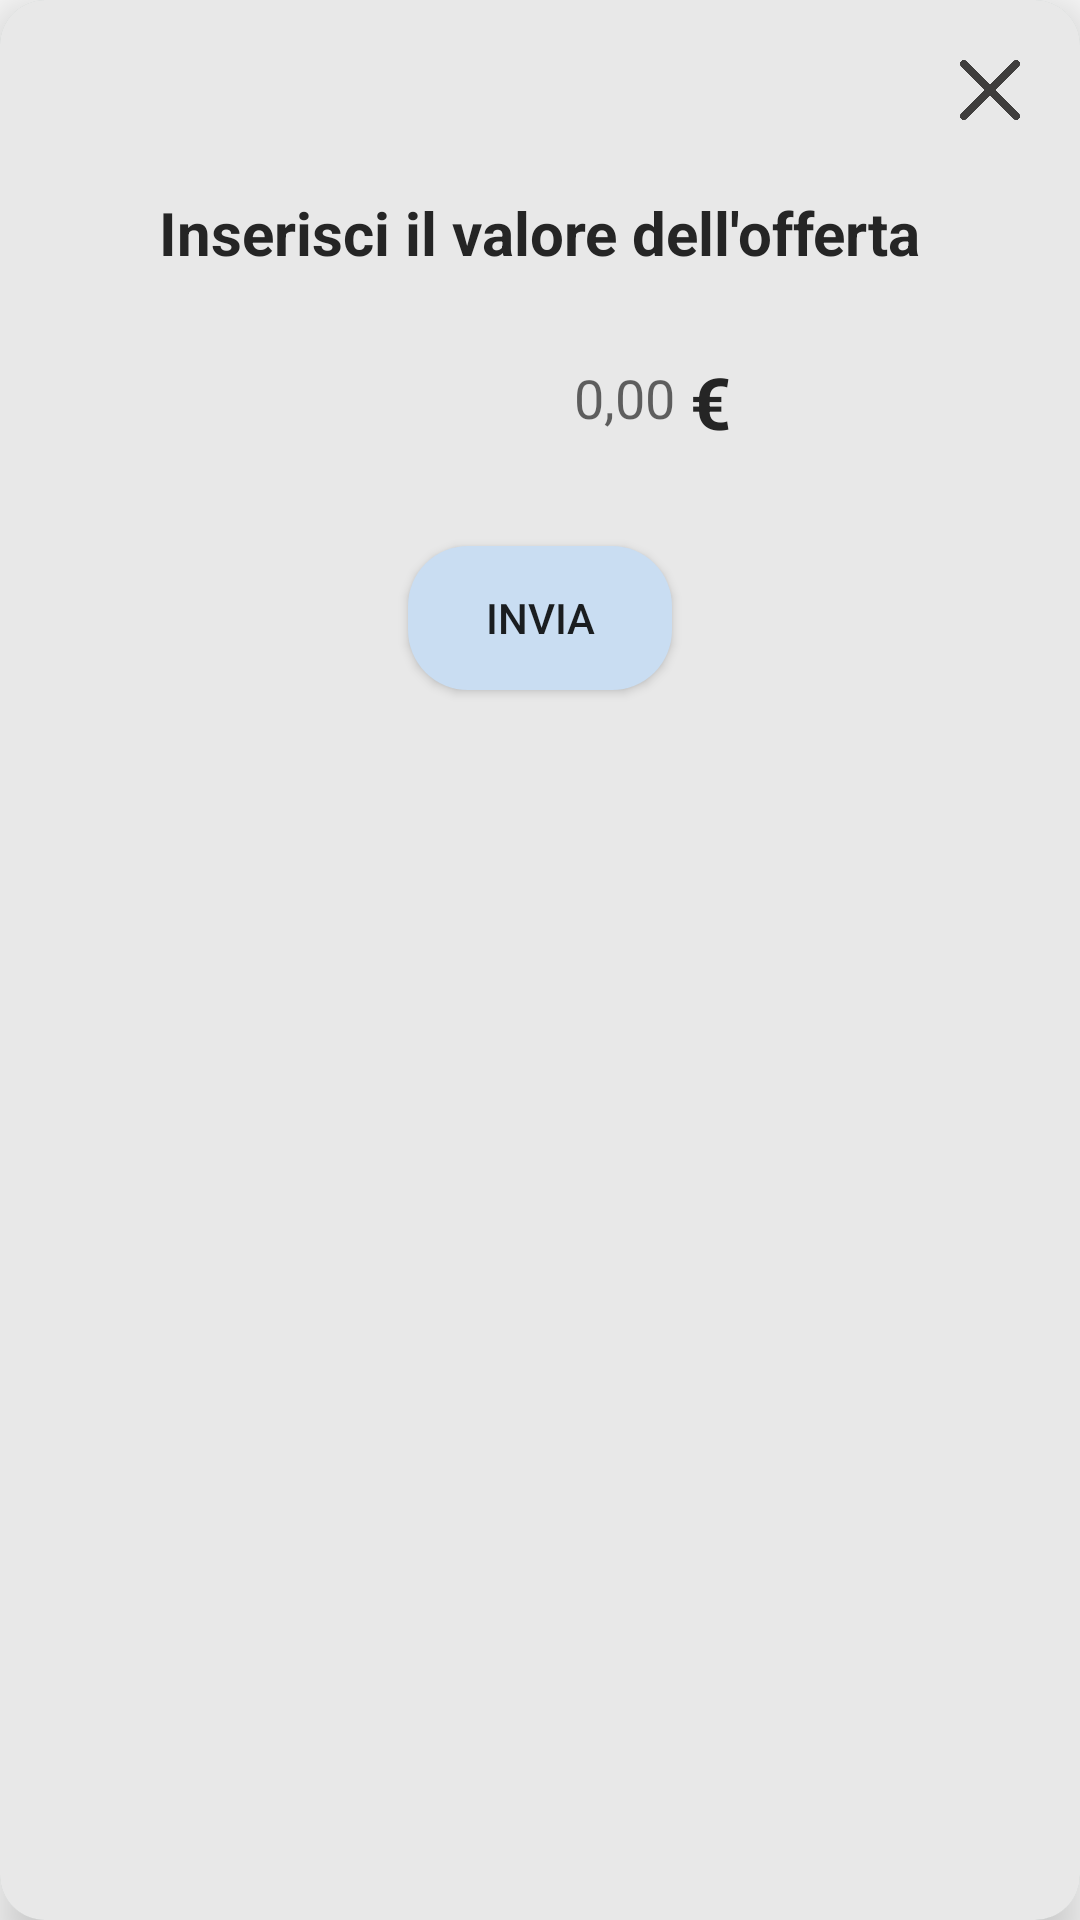

Icons on this 1080px×1920px Android screen, each with its box as (x1=x1, y1=y1, x2=x2, y2=y2):
cross: (x1=960, y1=60, x2=1020, y2=120)
